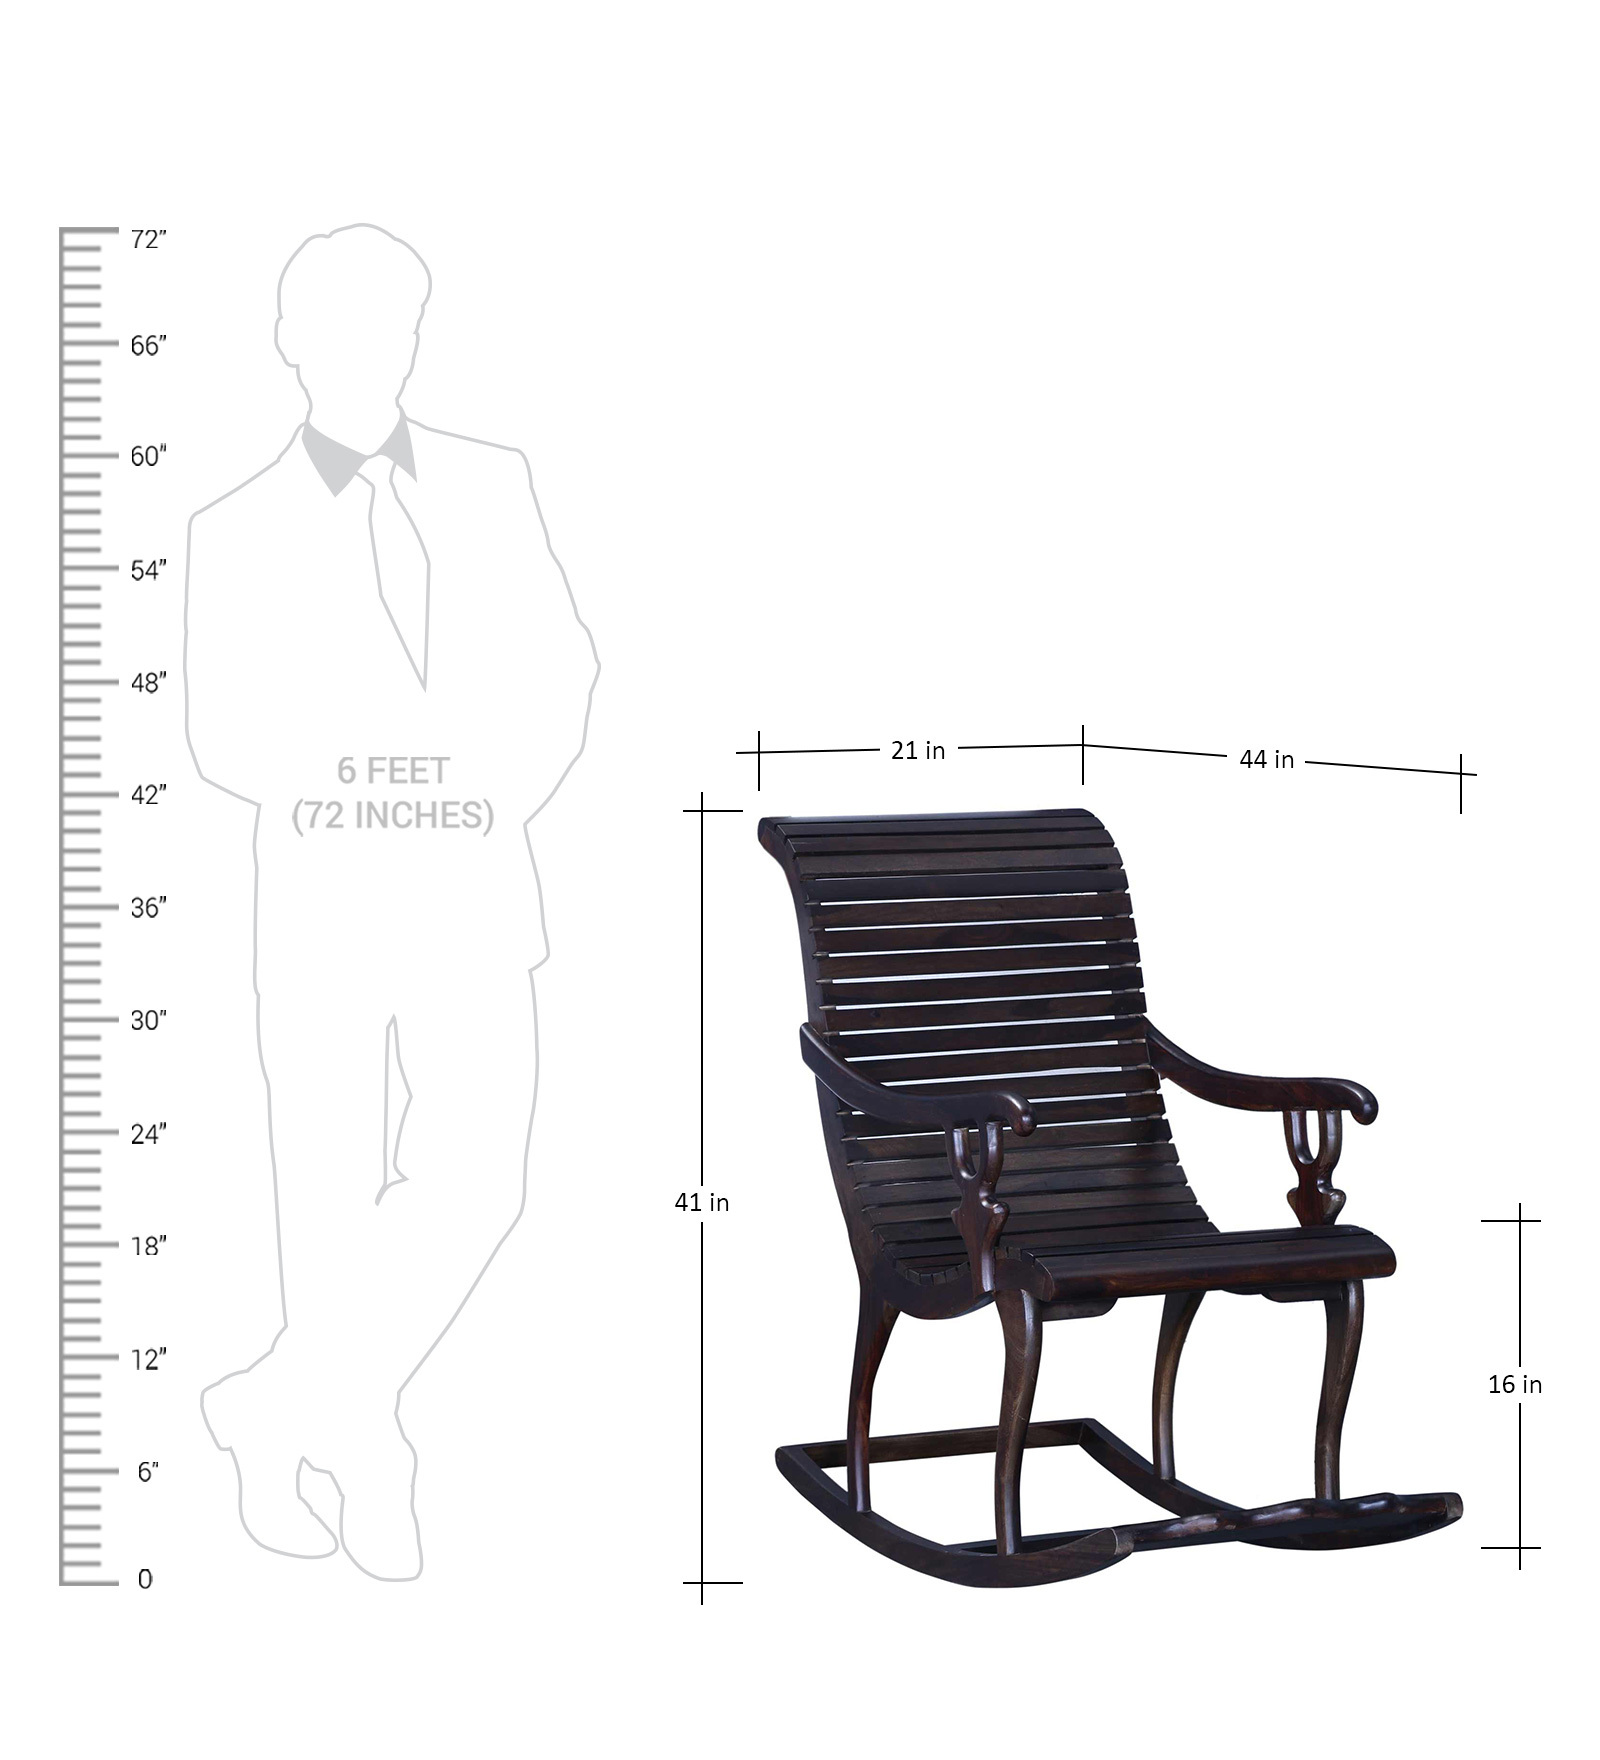Acklom Rocking Chair in Warm Chestnut Finish by Amberville: (743, 796, 1484, 1599)
